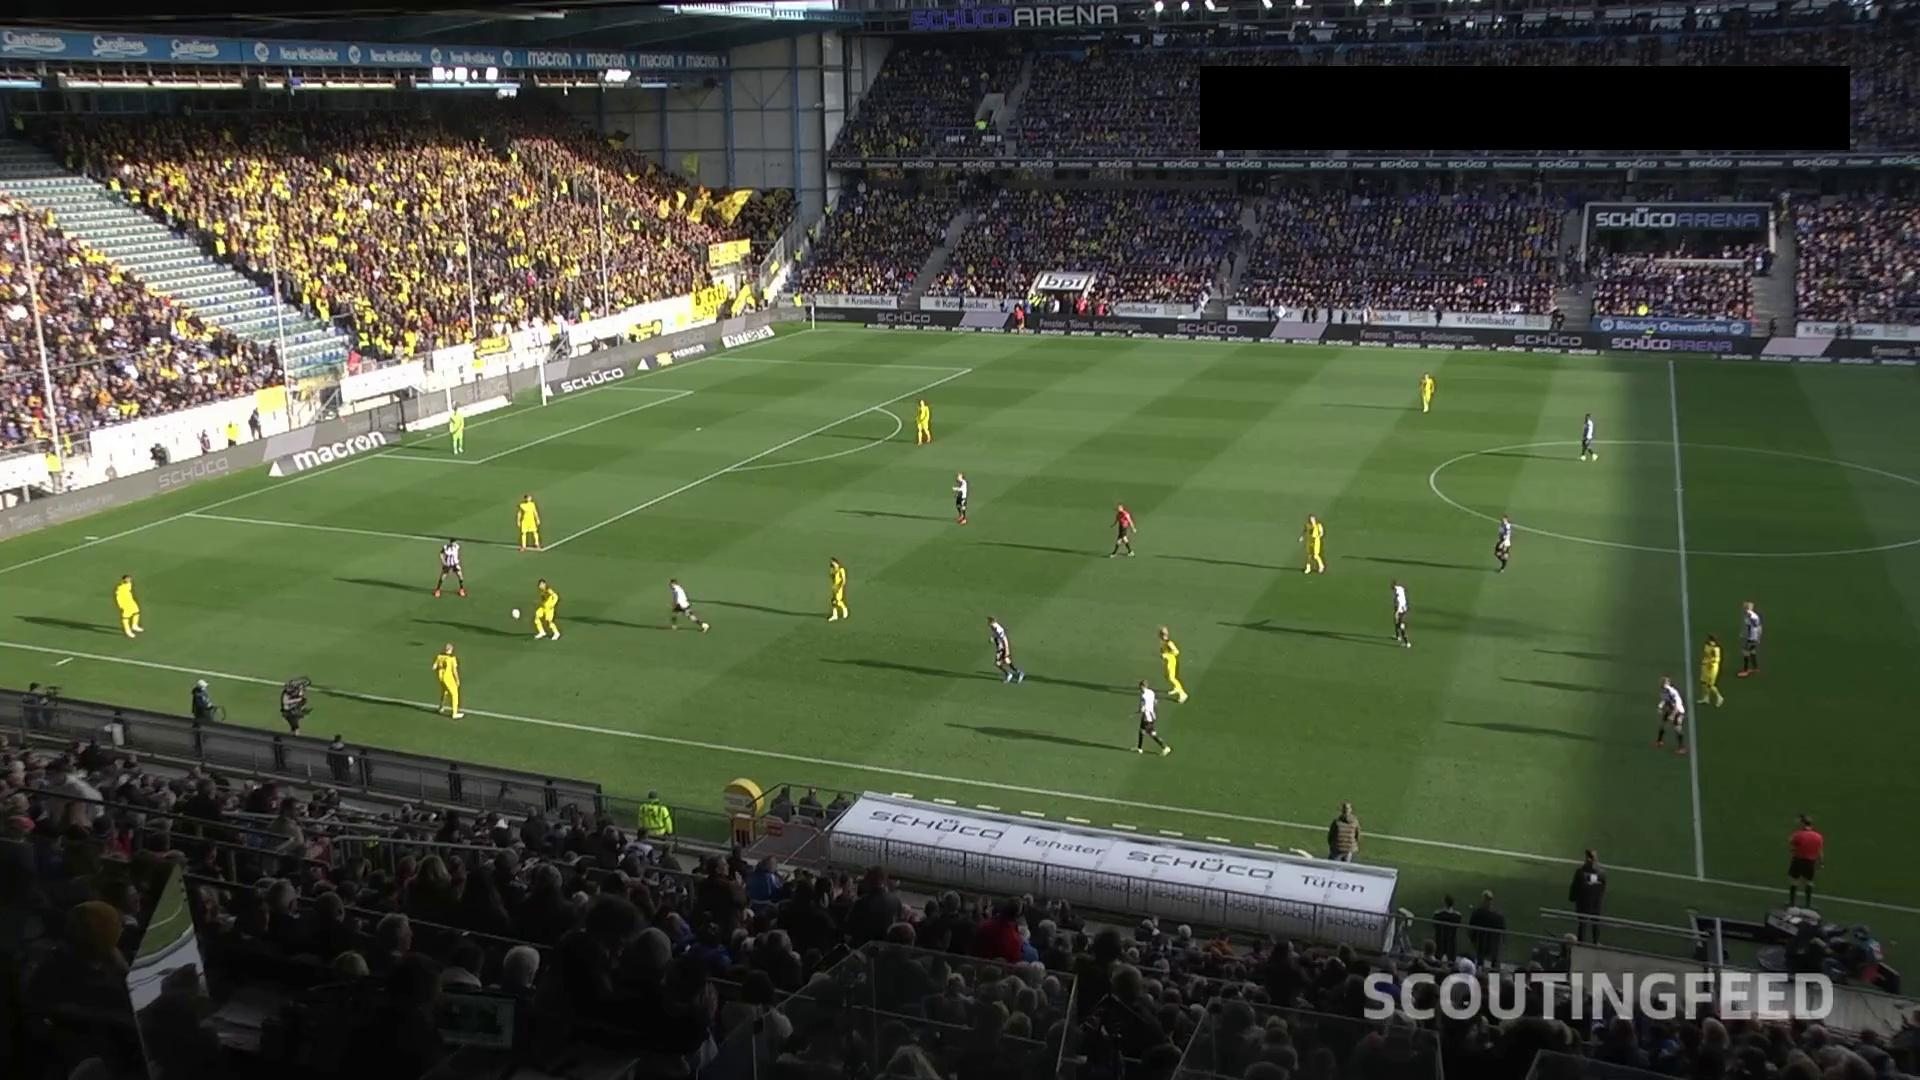Location-of-ball: (497, 589, 539, 640)
